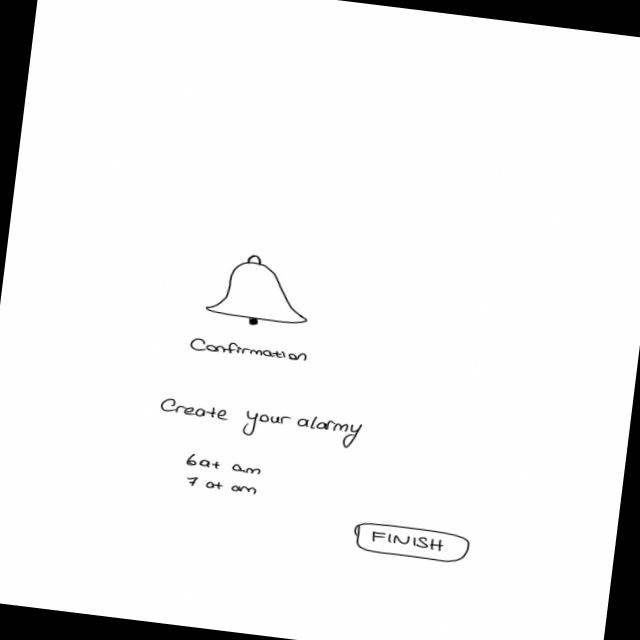button: (350, 519, 474, 566)
label: (156, 395, 366, 452), (188, 337, 310, 366), (184, 453, 267, 478), (184, 474, 260, 498)
